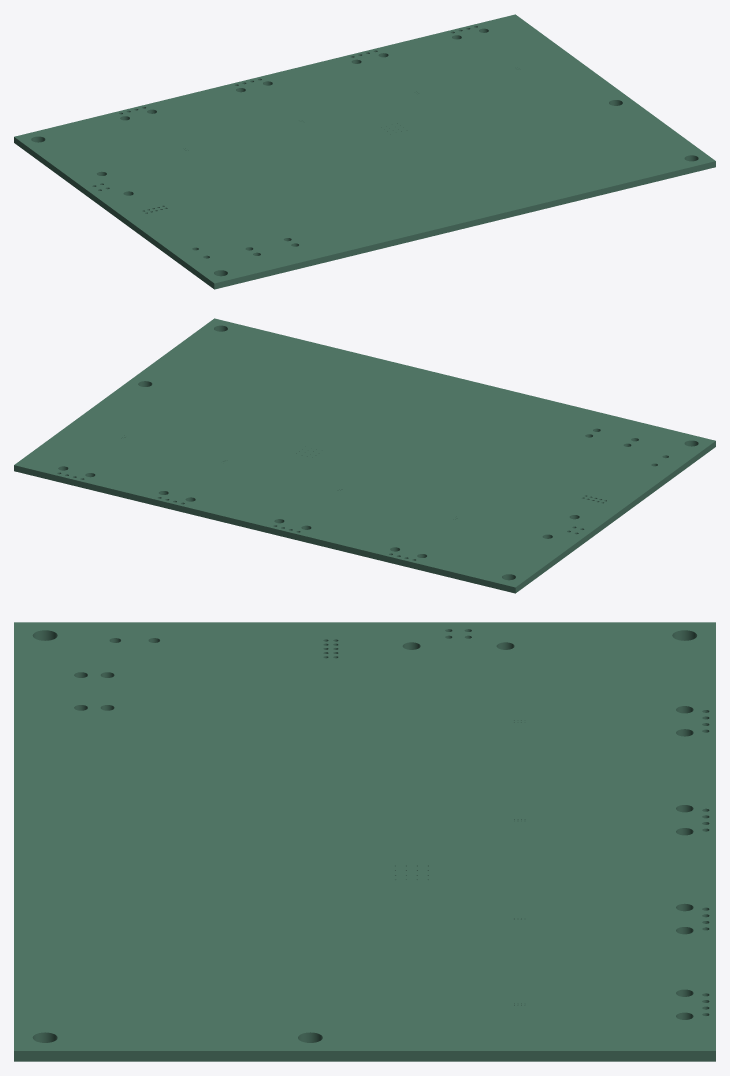
Rendered from programmable_usb2_hub.glb.
3 renders of one model, top to bottom at view 1: azimuth 30°, elevation 25°; view 2: azimuth 150°, elevation 25°; view 3: azimuth 270°, elevation 25°, orthographic. The views are drawn at different scales.
Parts seen in each view (by area): view 1: =>[0:1:1:2]; view 2: =>[0:1:1:2]; view 3: =>[0:1:1:2].
Part boxes in pixels (x1,y1,x2,y2): =>[0:1:1:2]: (14, 14, 715, 289); =>[0:1:1:2]: (14, 318, 715, 593); =>[0:1:1:2]: (14, 622, 715, 1061).
Bounding box in the file's own units: 0.13 × 0.00151 × 0.09.
